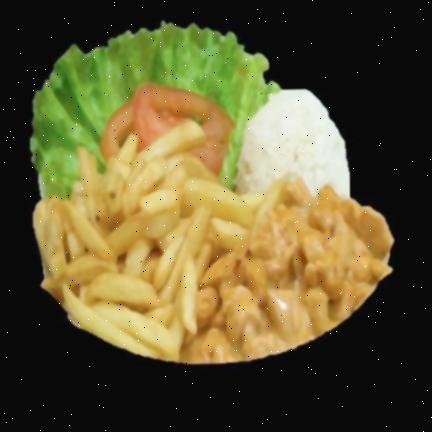chicken: (181, 182, 392, 361)
potato: (34, 122, 266, 359)
rice: (237, 90, 350, 196)
salad: (31, 23, 280, 198)
tomato: (101, 84, 233, 174)
